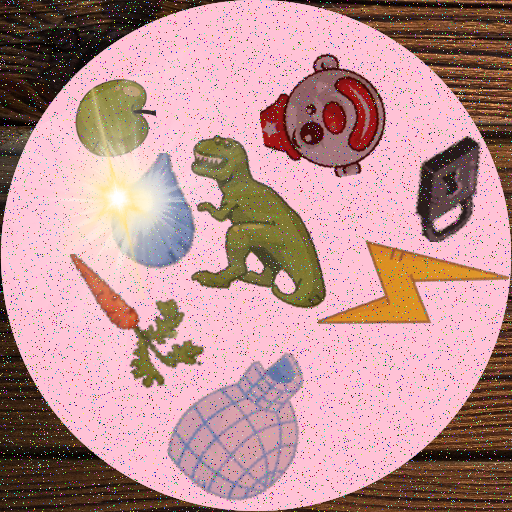apple_icon: (67, 70, 156, 159)
carrot_icon: (54, 254, 208, 408)
clown_icon: (260, 51, 388, 179)
dino_icon: (176, 134, 360, 318)
igloo_icon: (161, 336, 330, 505)
lightning_icon: (318, 196, 509, 387)
lock_icon: (398, 136, 504, 242)
raindrop_icon: (98, 153, 216, 271)
